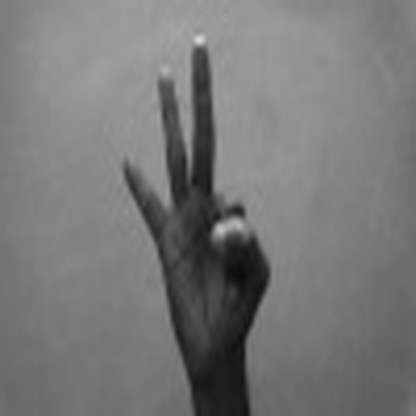f: (116, 27, 281, 369)
